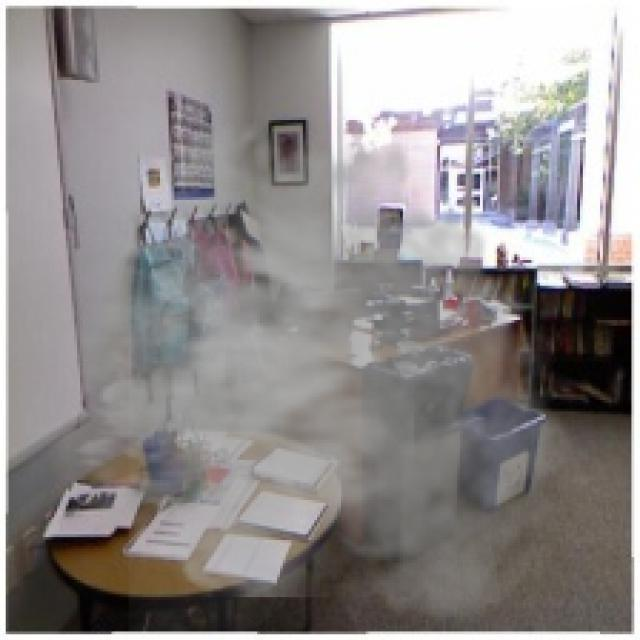Smoke: (31, 106, 588, 634)
